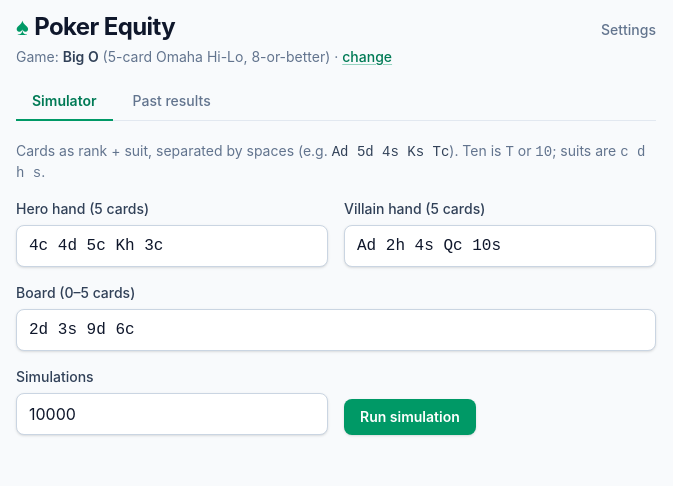
Scenario: rejects an invalid card
This screenshot has width=673, height=486.
Replace the text in the field labelled "Hero hand (5 cards)" with "Ad 5d 4s Ks Xz" at [172, 246], box [16, 225, 328, 267]
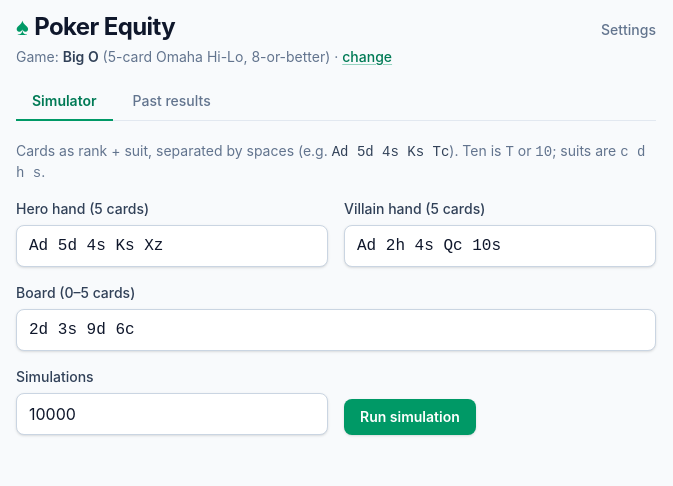
Click the button "Run simulation" at [410, 417], box [344, 399, 476, 435]
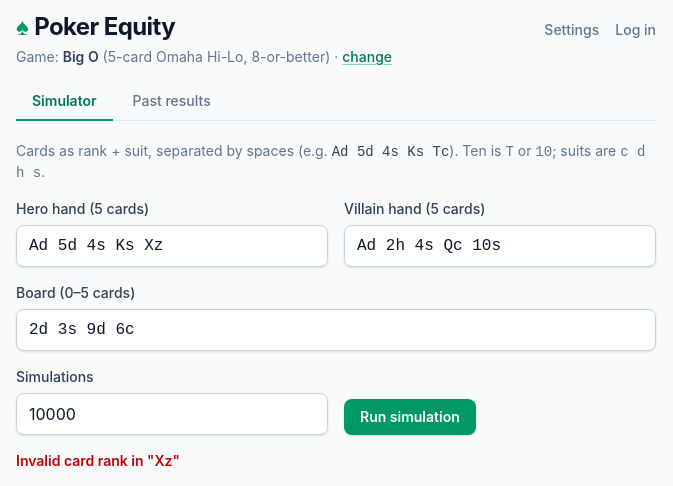
Expected: the text "Invalid card rank in \"Xz\"" is shown, [16, 452, 180, 469]
